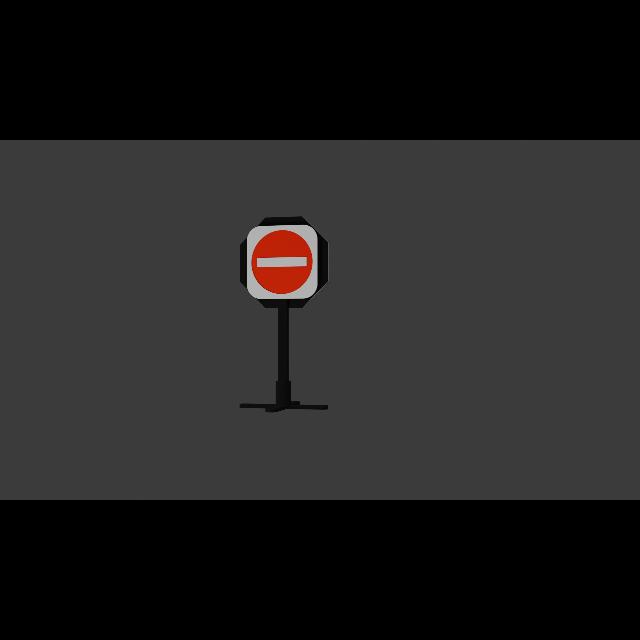sign_noentry: (250, 226, 318, 301)
